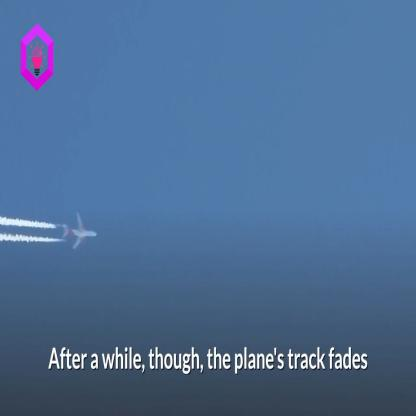plane: (58, 206, 105, 264)
